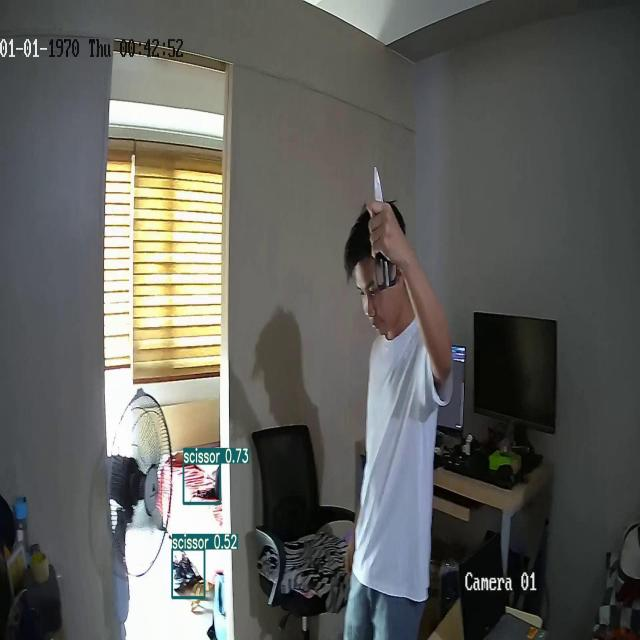scissor: (374, 164, 398, 286)
